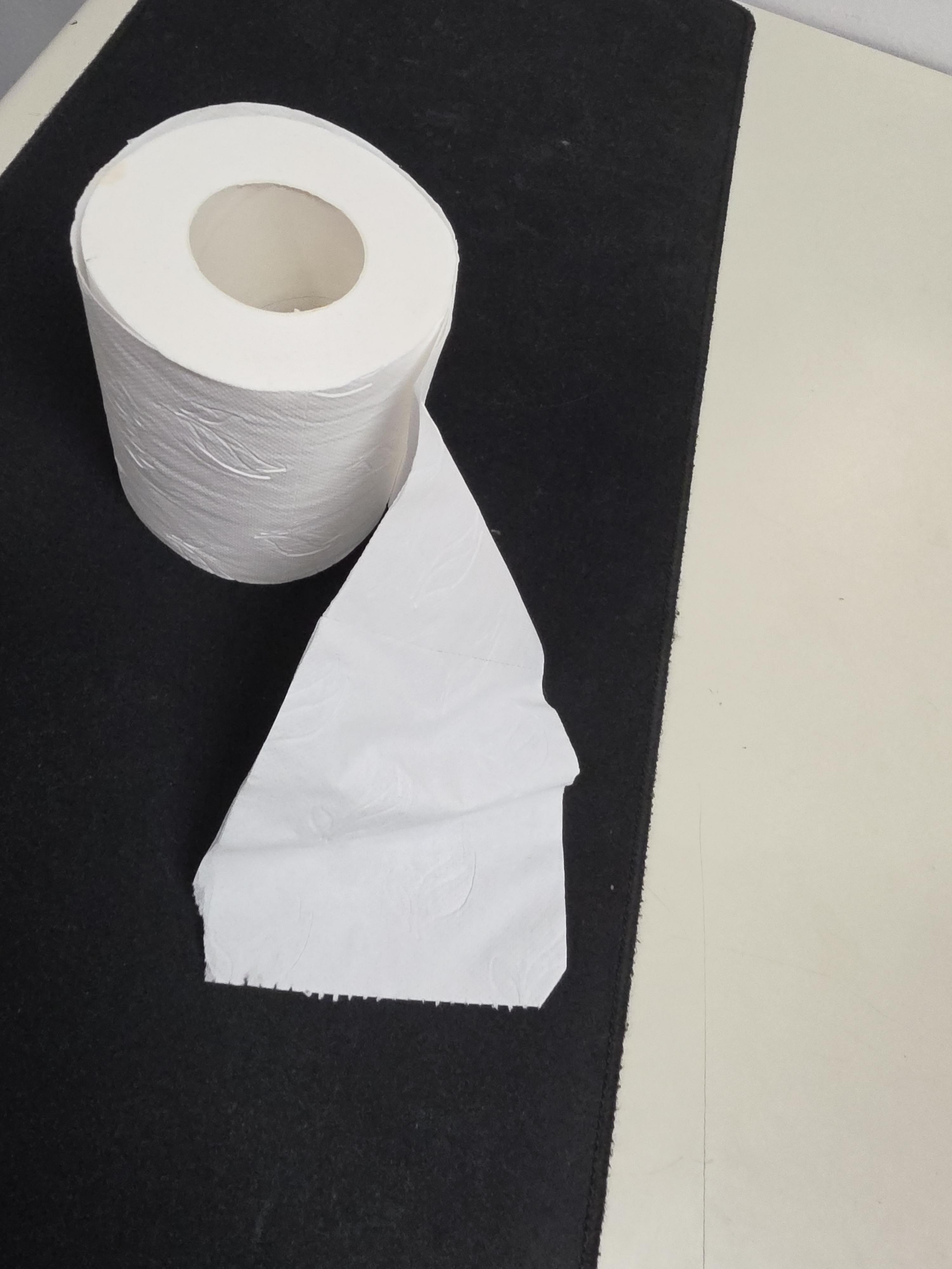tissue: (70, 102, 581, 1011)
